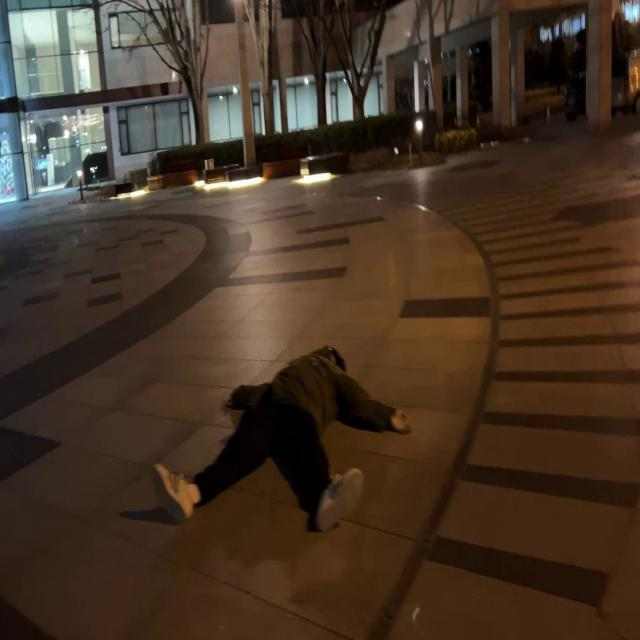Fall: (154, 346, 411, 532)
